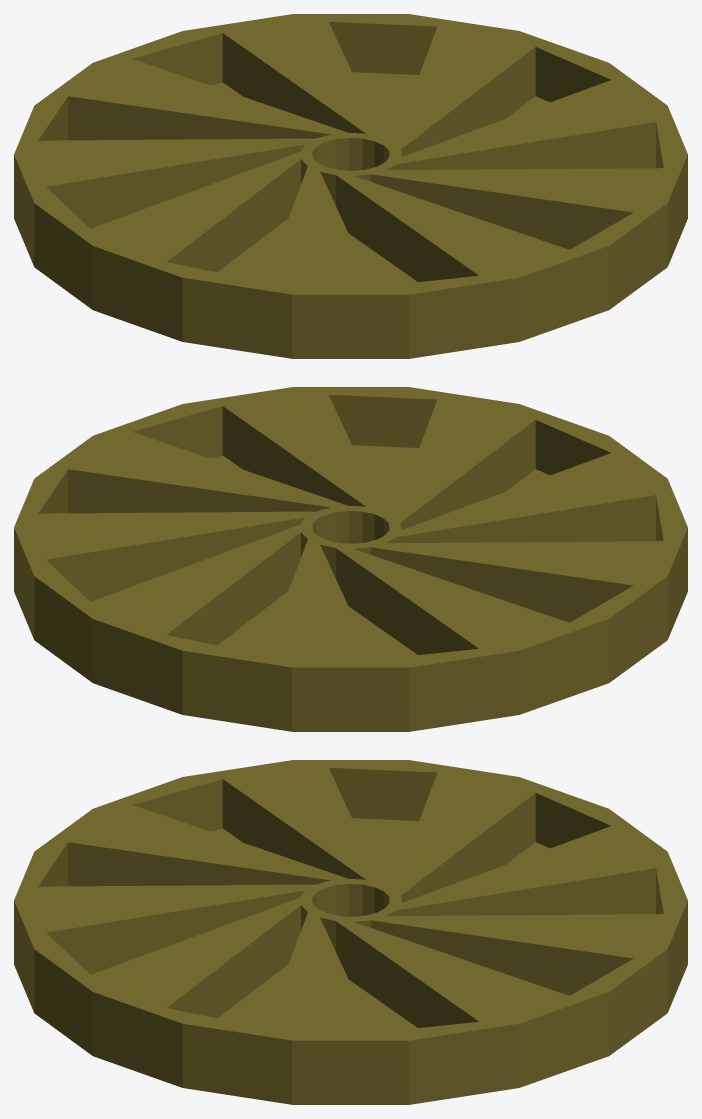
The model's file is vent.fbx.
3 renders of one model, top to bottom at view 1: azimuth 30°, elevation 25°; view 2: azimuth 150°, elevation 25°; view 3: azimuth 270°, elevation 25°, orthographic.
Visible parts, largest first — view 1: vent; view 2: vent; view 3: vent.
Part boxes in pixels (x1,y1,x2,y2): vent: (14, 14, 687, 358); vent: (14, 387, 687, 731); vent: (14, 760, 687, 1104).
Size of the model in its own units: 342 by 36.52 by 347.
